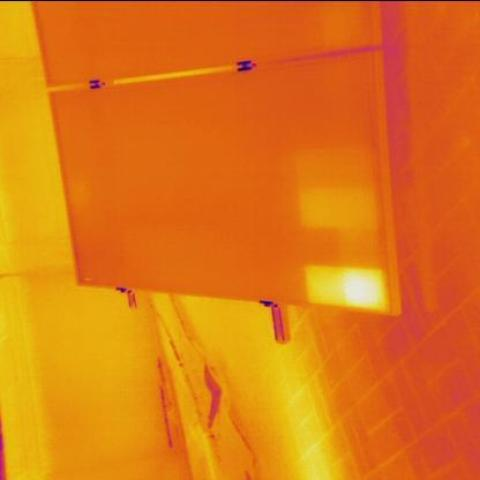fault: (342, 266, 380, 306)
